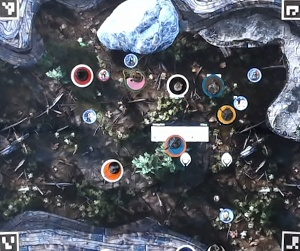black: (165, 78, 188, 101)
brown_turquoise: (202, 75, 225, 98)
light_blue_orange: (163, 132, 186, 155)
orange: (100, 158, 123, 181)
pink_green: (122, 68, 145, 91)
red: (69, 65, 92, 88)
yellow_night_blue: (216, 105, 239, 128)
